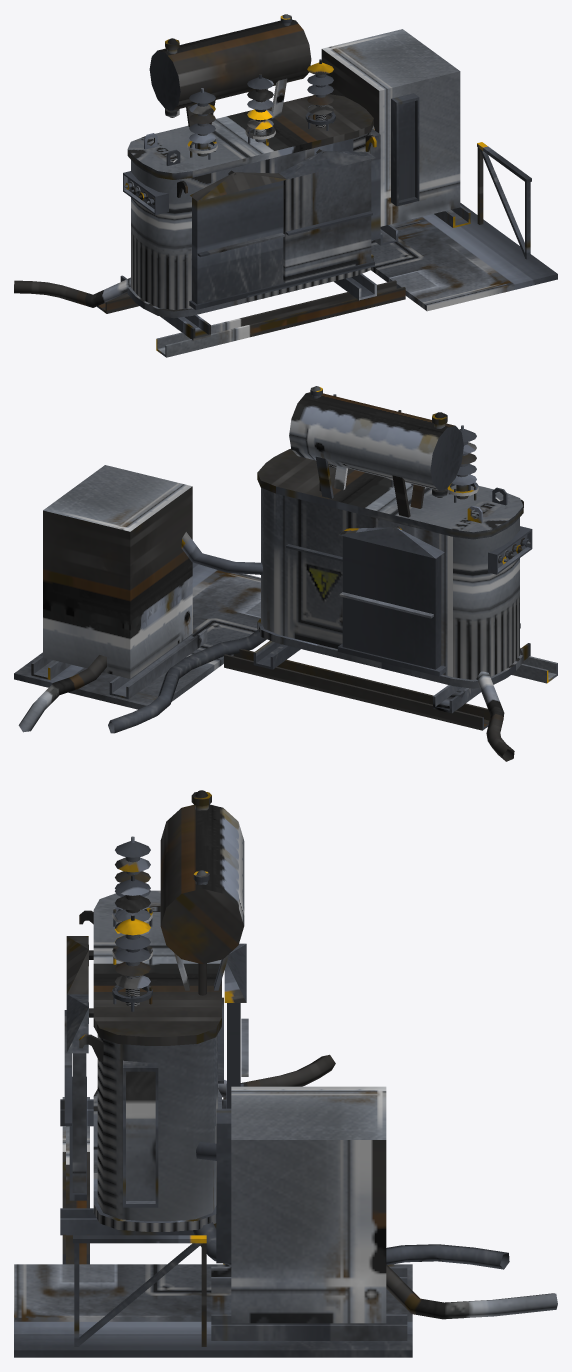
Rendered from transformer.dae.
3 renders of one model, top to bottom at view 1: azimuth 30°, elevation 25°; view 2: azimuth 150°, elevation 25°; view 3: azimuth 270°, elevation 25°, orthographic. The views are drawn at different scales.
Visible parts, largest first — view 1: Transformer; view 2: Transformer; view 3: Transformer.
Part boxes in pixels (<box>): Transformer: <box>14,14,557,357</box>; Transformer: <box>14,386,557,761</box>; Transformer: <box>14,790,557,1357</box>.
Bounding box in the file's own units: 3.03 × 2.47 × 1.8.
1 material, 1 textured.
